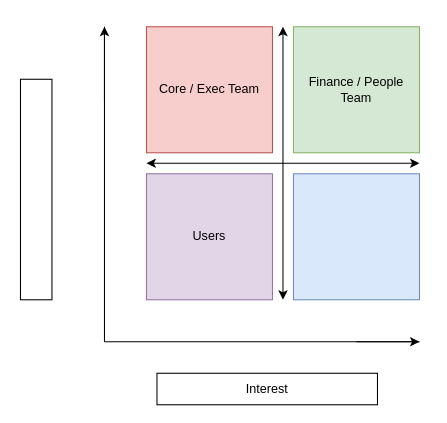
The diagram is 447 pixels wide and 423 high, and some of its shapes have lost their labels. Here are the shapes that lost their labels. From the top down, the centre of each, then its label:
the point at 35,189: Power
the point at 355,236: BI Team
